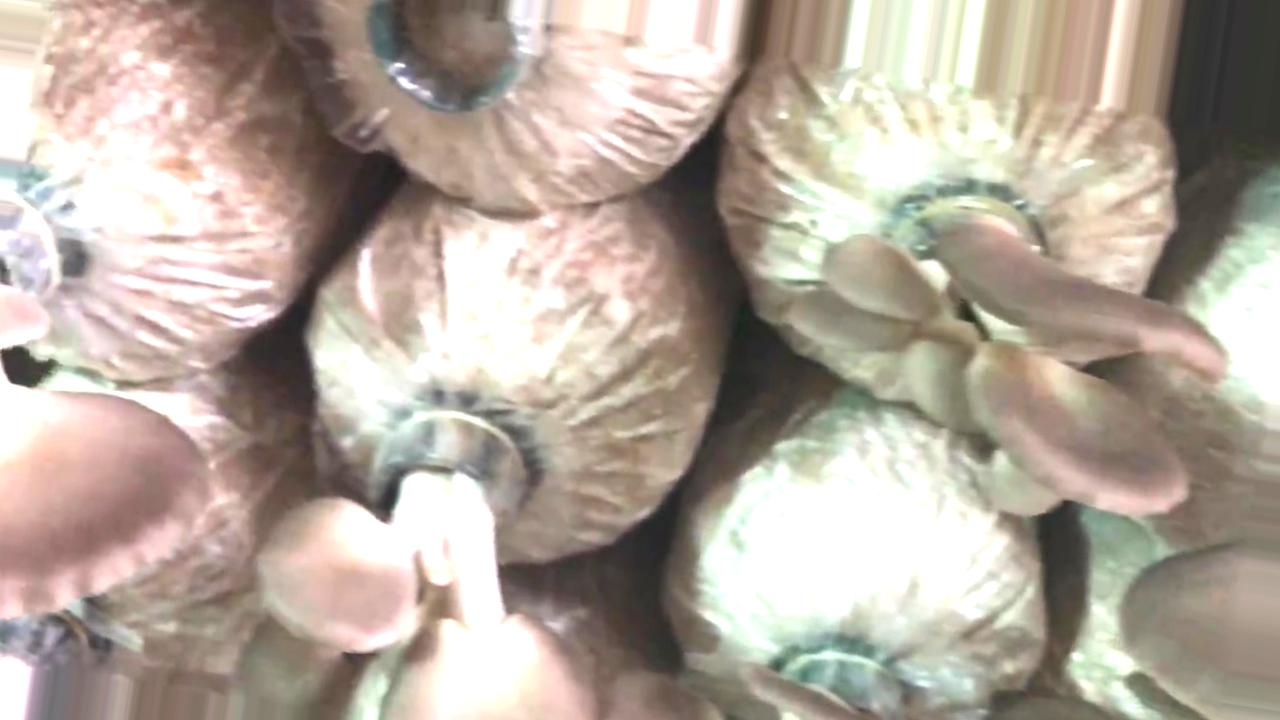nam: (789, 193, 1231, 518), (255, 418, 584, 720), (1, 227, 213, 623), (1121, 534, 1280, 719)
